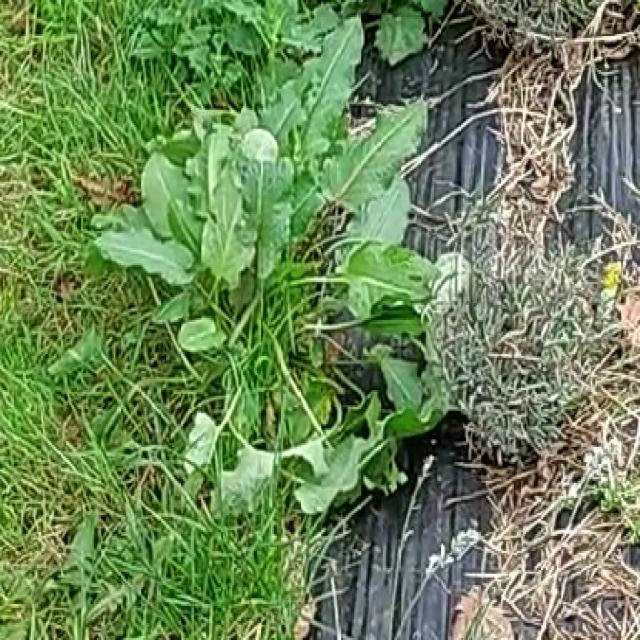organic waste: (92, 17, 477, 489)
